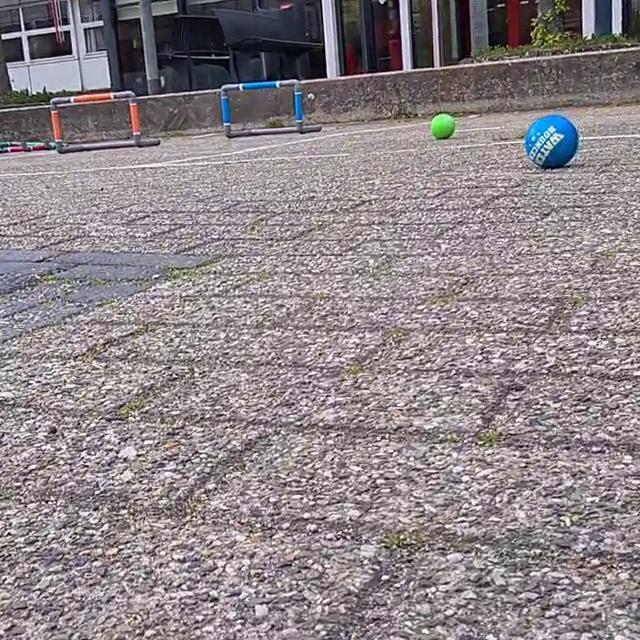ball: (428, 109, 457, 142)
